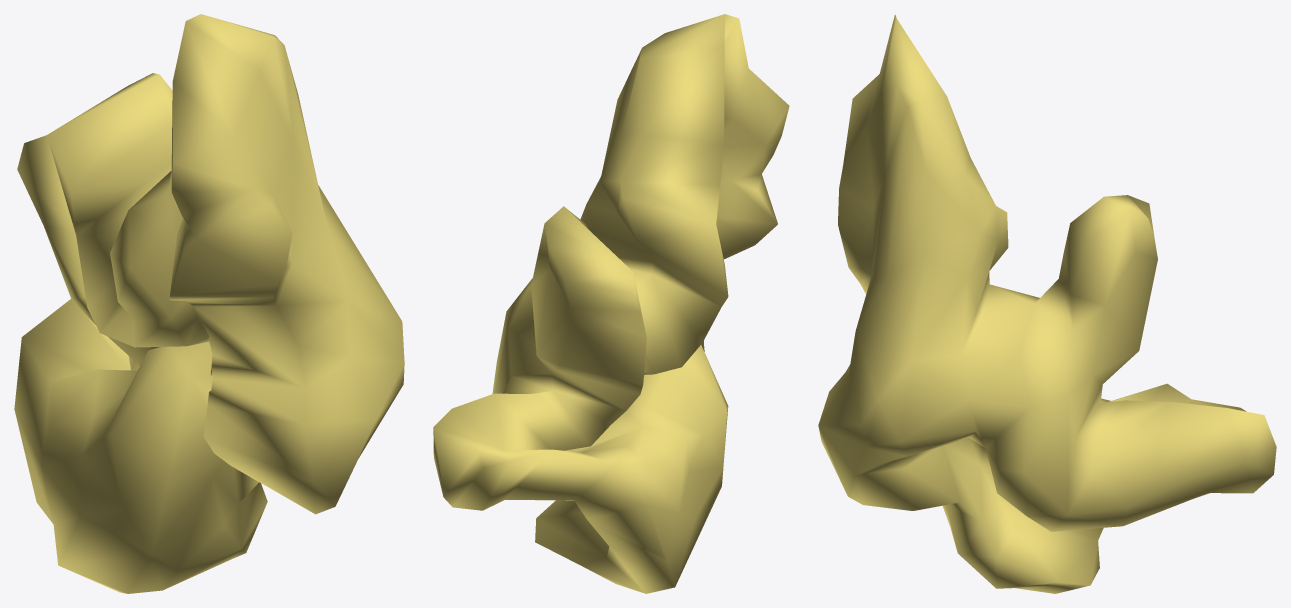
Rendered from subparietal-sulcus-l.glb.
3 views of the same model, side by side, from view 1: azimuth 30°, elevation 25°; view 2: azimuth 150°, elevation 25°; view 3: azimuth 270°, elevation 25° (orthographic). The views are drawn at different scales.
Visible parts, largest first — view 1: Subparietal sulcus.l; view 2: Subparietal sulcus.l; view 3: Subparietal sulcus.l.
Boxes of the visible parts, x1=… form: Subparietal sulcus.l: x1=14, y1=14, x2=404, y2=593; Subparietal sulcus.l: x1=433, y1=14, x2=789, y2=593; Subparietal sulcus.l: x1=818, y1=14, x2=1276, y2=593.
Size of the model in its own units: 0.0151 by 0.0358 by 0.0266.
